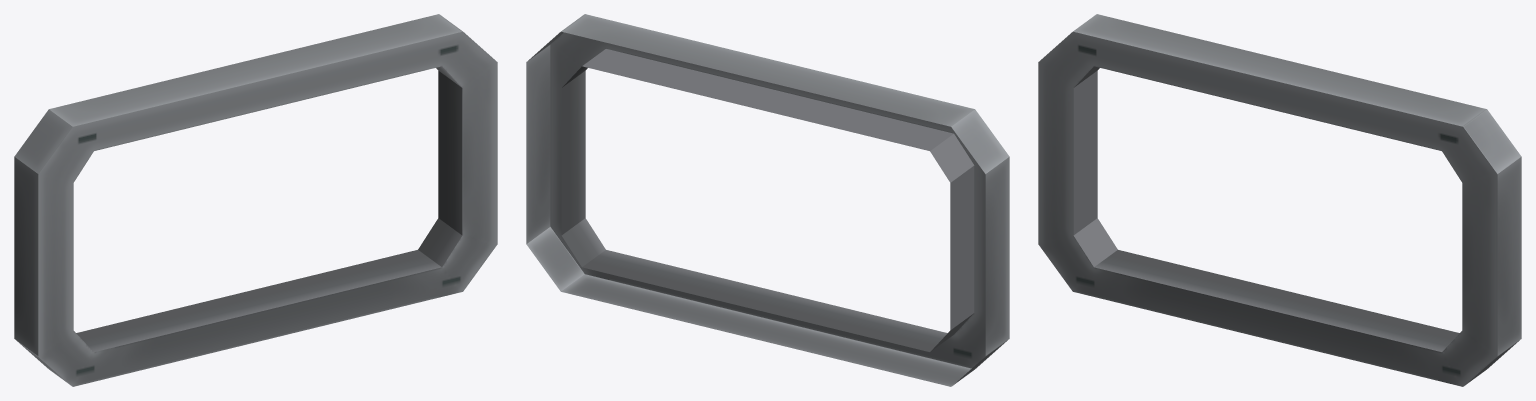
The model's file is SM_Laboratory_Window.fbx.
3 views of the same model, side by side, from view 1: azimuth 30°, elevation 25°; view 2: azimuth 150°, elevation 25°; view 3: azimuth 330°, elevation 25° (orthographic).
Visible parts, largest first — view 1: SM_Laboratory_Window; view 2: SM_Laboratory_Window; view 3: SM_Laboratory_Window.
Boxes of the visible parts, left/top/right/bottom form: SM_Laboratory_Window: left=14, top=14, right=497, bottom=386; SM_Laboratory_Window: left=526, top=14, right=1009, bottom=386; SM_Laboratory_Window: left=1038, top=14, right=1521, bottom=386.
Size of the model in its own units: 162 by 87.6 by 14.68.
Materials: 1 (1 with a texture image).
